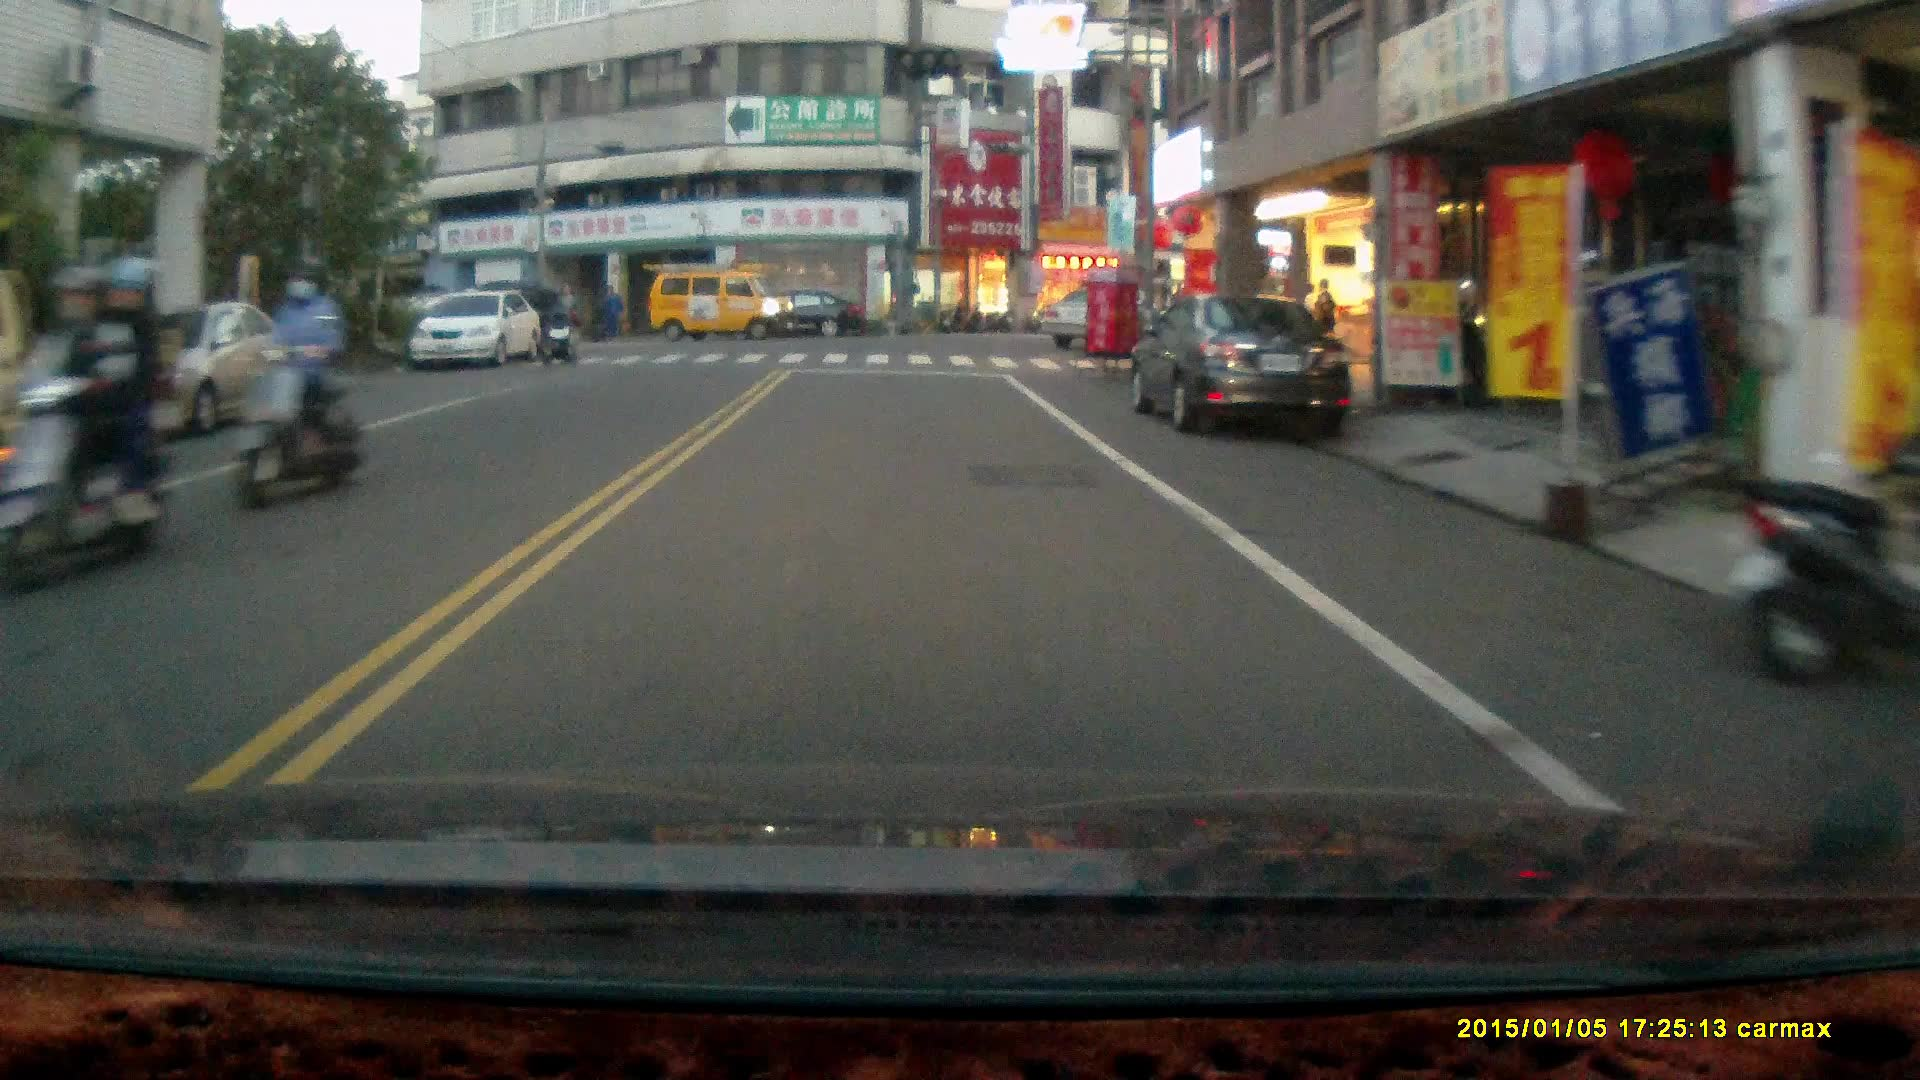pedestrian: (1314, 277, 1339, 365), (555, 279, 580, 346)
rider: (0, 255, 167, 595), (232, 251, 365, 515), (537, 304, 583, 367)
vehicle: (1, 268, 219, 491), (1128, 293, 1364, 451), (108, 297, 307, 431), (649, 258, 795, 344), (412, 288, 542, 370), (740, 286, 868, 337)
